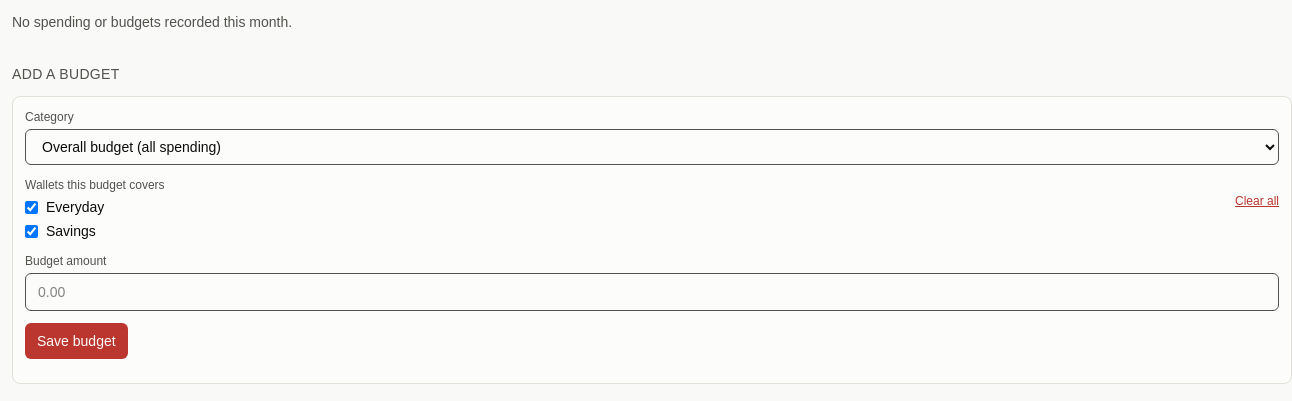
BudgetList — select all / clear all in the wallet picker › reads Select all when one or more wallets are unchecked
The image size is (1292, 401).
Click the checkbox labelled "Savings". click: click(32, 231)
box: [25,224,38,238]
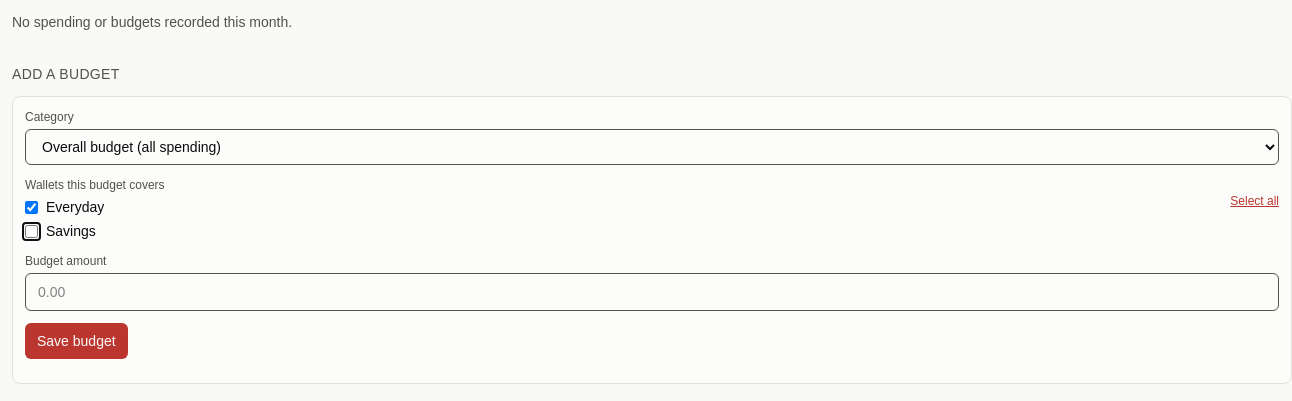
Now the button "Select all" is shown, box [1230,193,1279,209]
